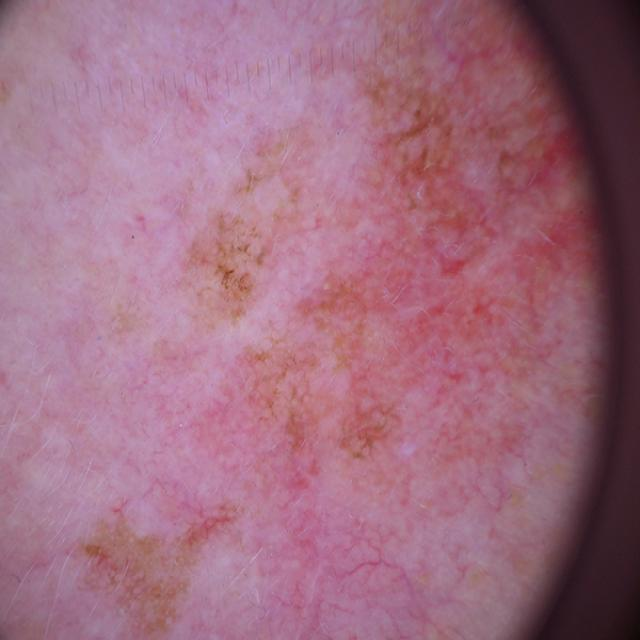Skin-Cancer Pigmented benign keratosis: (0, 1, 617, 640)
